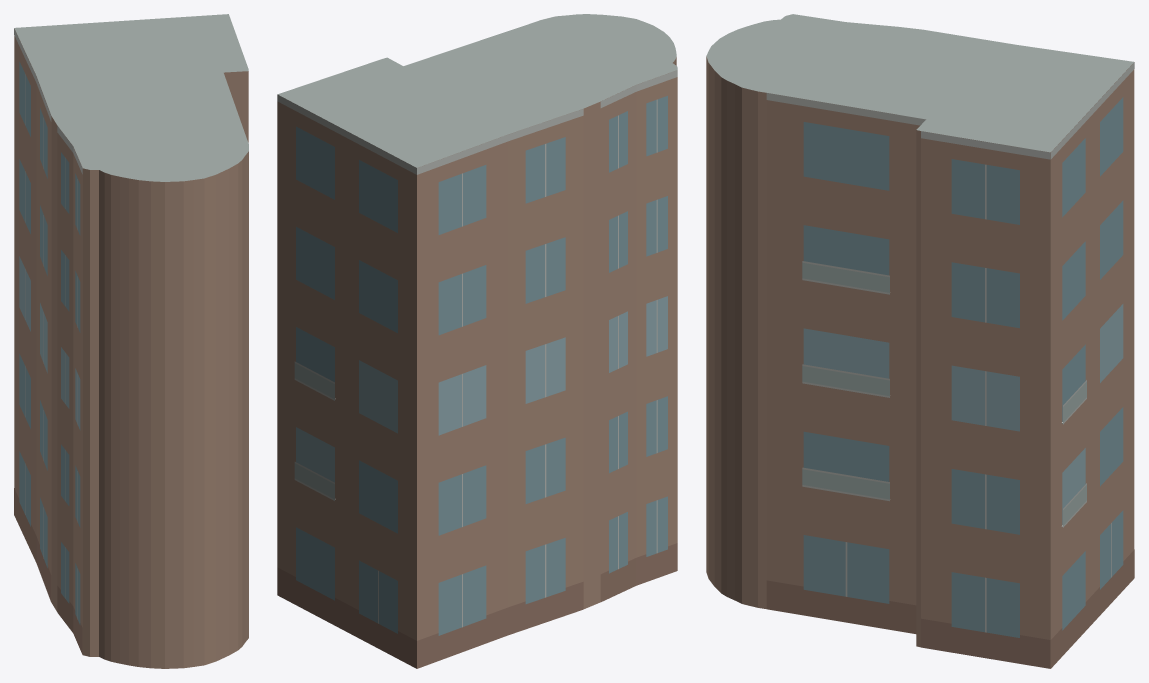
File: survey-upis-32470657.glb
The picture shows the model from 3 angles, left to right: view 1: azimuth 30°, elevation 25°; view 2: azimuth 150°, elevation 25°; view 3: azimuth 270°, elevation 25°; orthographic projection. The views are drawn at different scales.
Parts seen in each view (by area): view 1: survey-upis-32470657.tmp; view 2: survey-upis-32470657.tmp; view 3: survey-upis-32470657.tmp.
Boxes of the visible parts, <box> form: survey-upis-32470657.tmp: <box>14,14,248,668</box>; survey-upis-32470657.tmp: <box>277,14,677,668</box>; survey-upis-32470657.tmp: <box>706,14,1134,668</box>.
Size of the model in its own units: 10.11 by 17.57 by 13.2.
